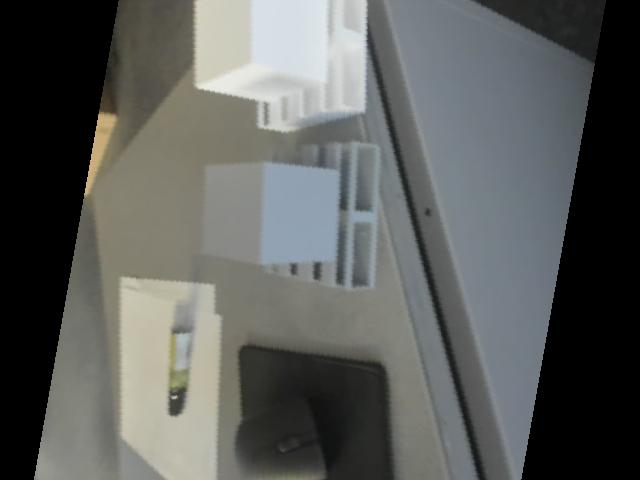grey pallet: (180, 125, 428, 301)
white pallet: (154, 3, 408, 139)
